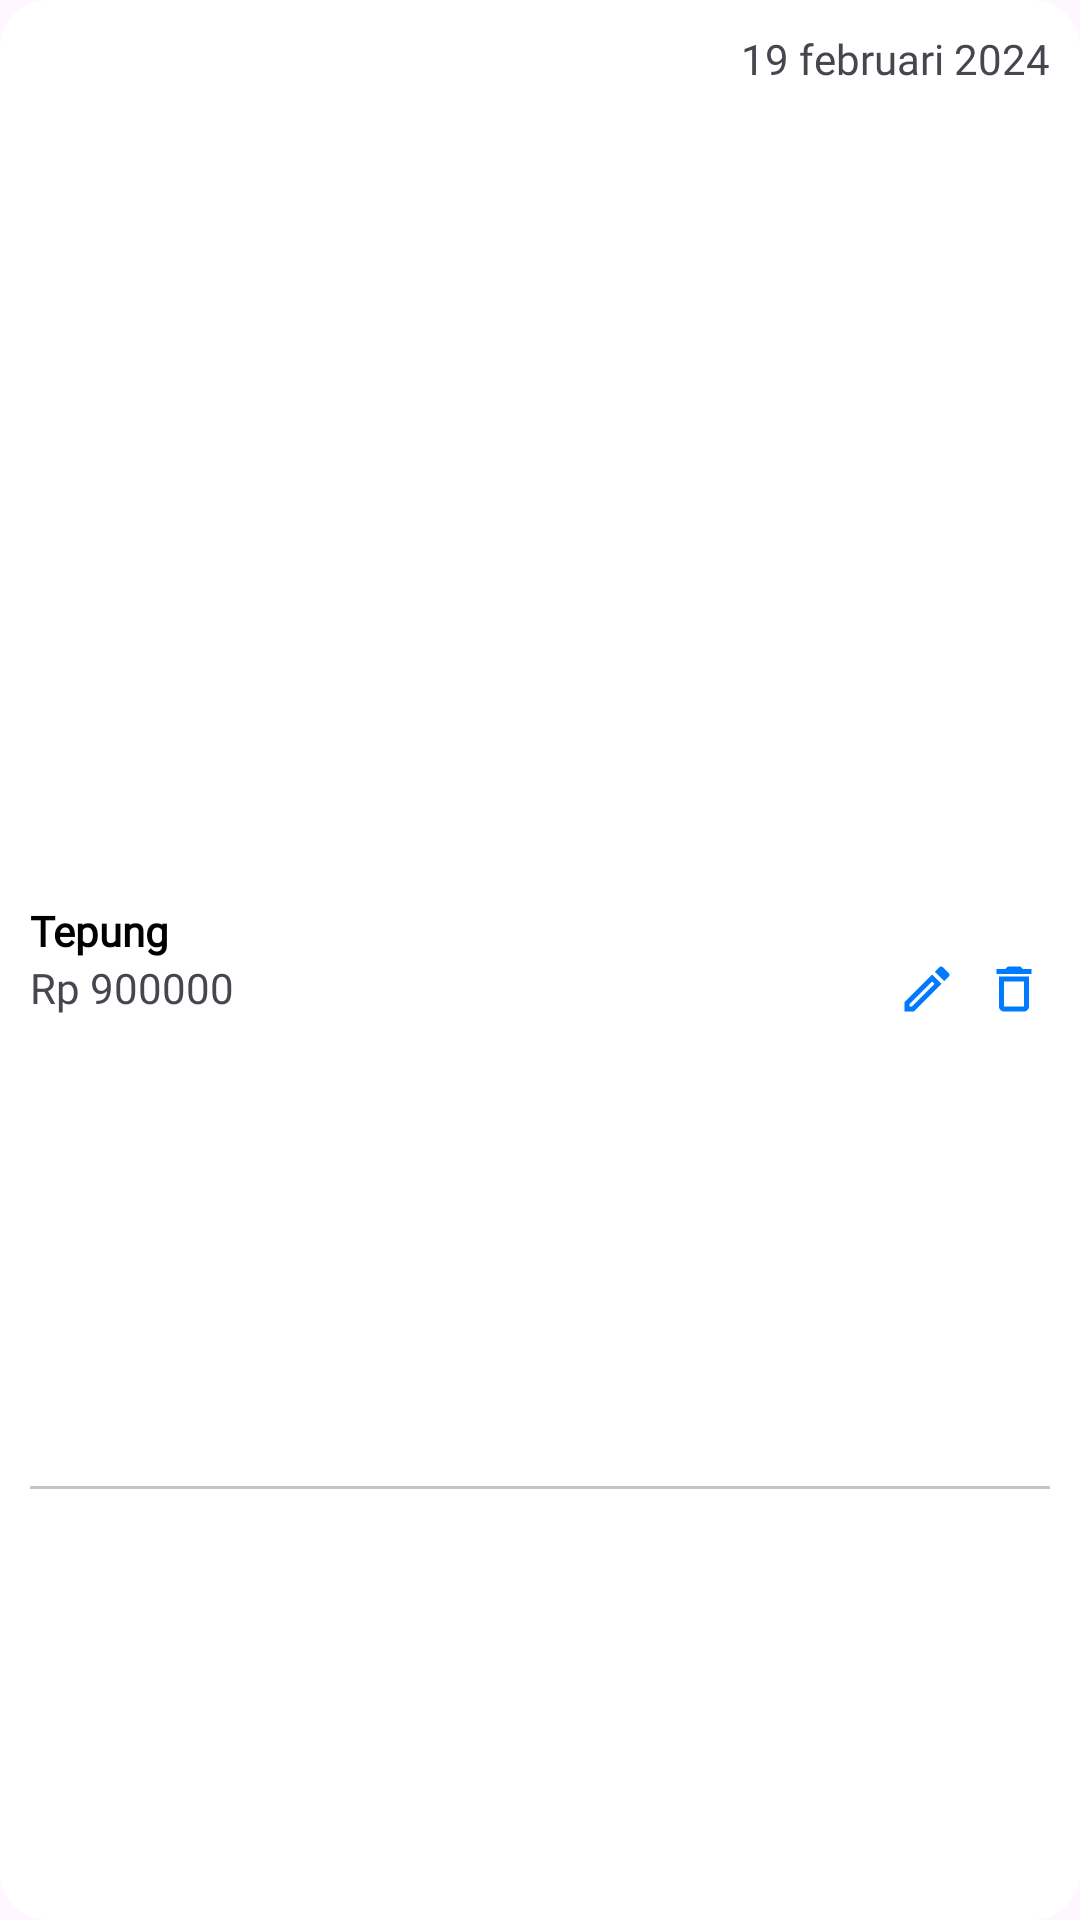

Screen size 1080 x 1920. Icon name, then its center in pixels as (x=x, y=y):
delete: (x=1014, y=989)
edit: (x=927, y=989)
